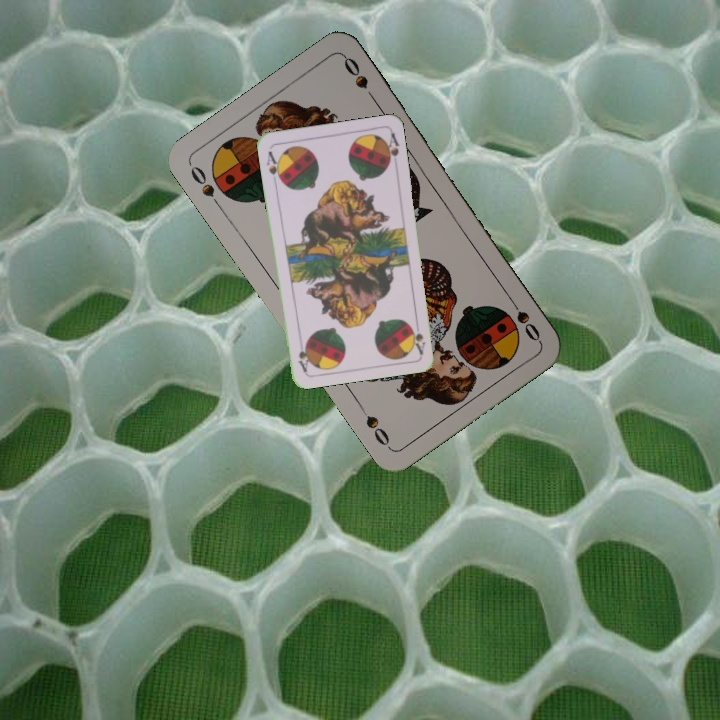SA: (262, 147, 285, 186), (408, 316, 428, 356)
SO: (504, 292, 543, 344), (186, 162, 225, 213)
